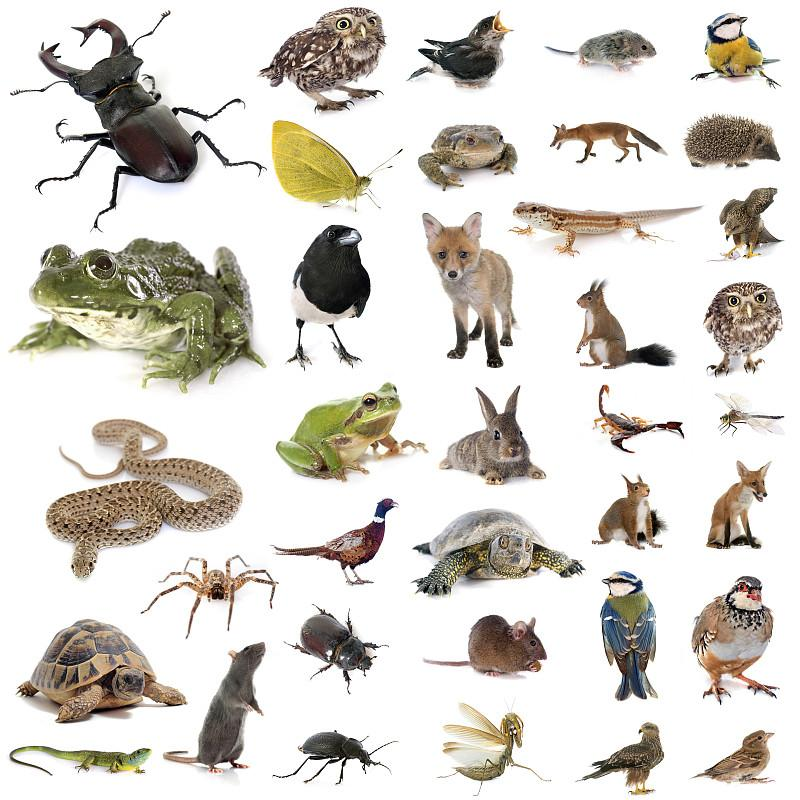rat: (190, 632, 269, 768), (432, 606, 555, 677), (545, 22, 665, 70)
